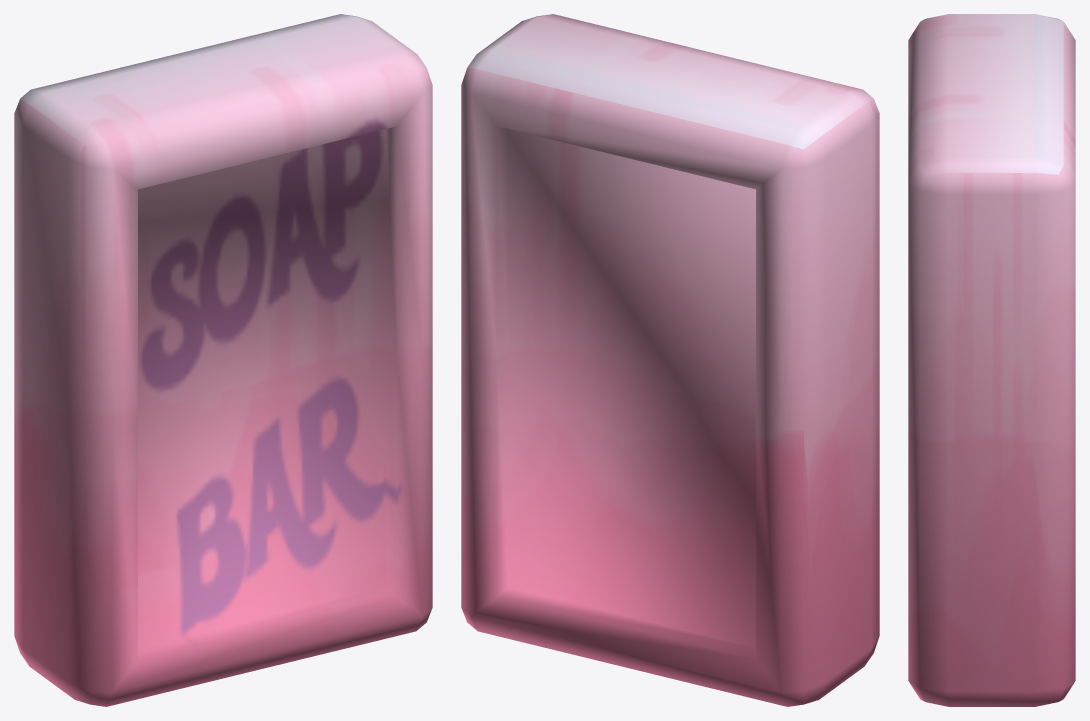
Rendered from soap.fbx.
3 renders of one model, left to right at view 1: azimuth 30°, elevation 25°; view 2: azimuth 150°, elevation 25°; view 3: azimuth 270°, elevation 25°, orthographic. The views are drawn at different scales.
Visible parts, largest first — view 1: soap; view 2: soap; view 3: soap.
Part boxes in pixels (x1=…): soap: x1=14, y1=14, x2=432, y2=706; soap: x1=461, y1=14, x2=879, y2=706; soap: x1=908, y1=14, x2=1075, y2=706.
Bounding box in the file's own units: 383 × 594 × 164.
